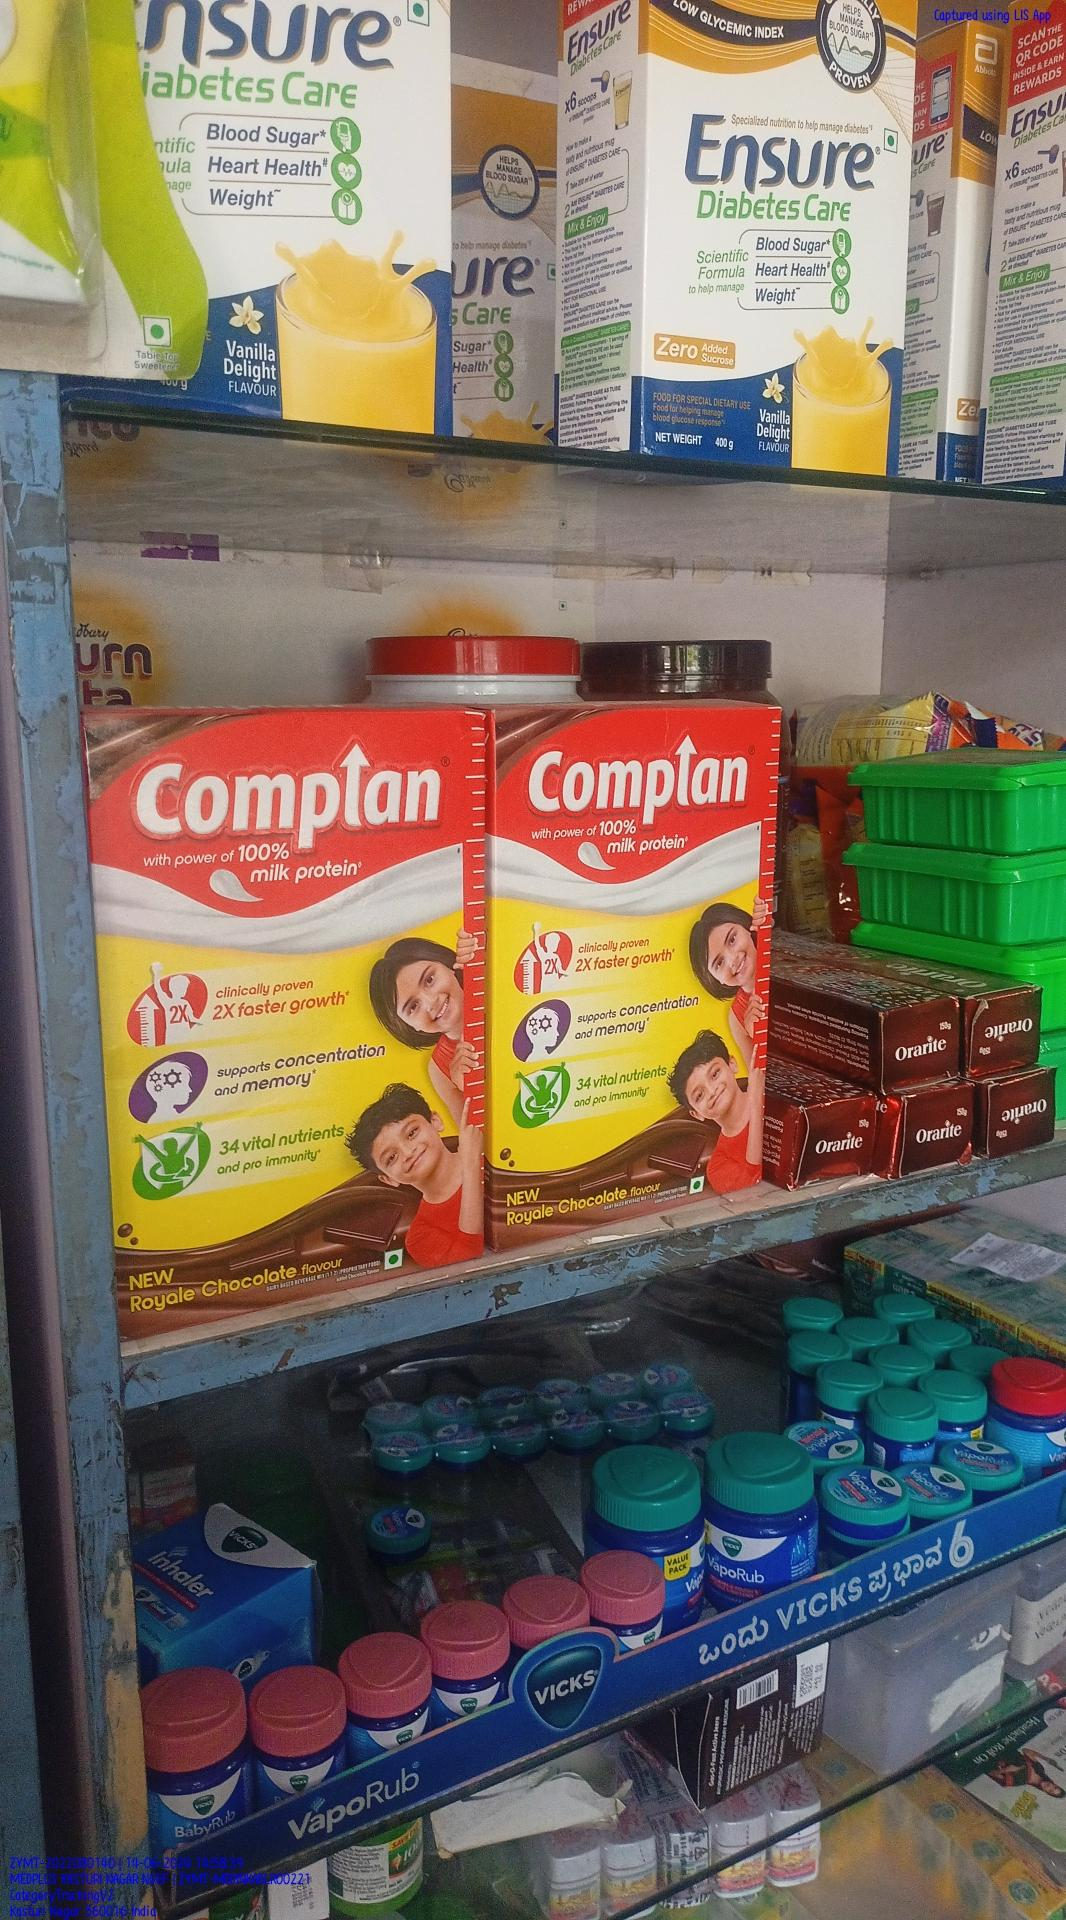COMPLAN_CHOCOLATE_500_GMS_PACK: (98, 718, 482, 1332), (491, 702, 771, 1240)
